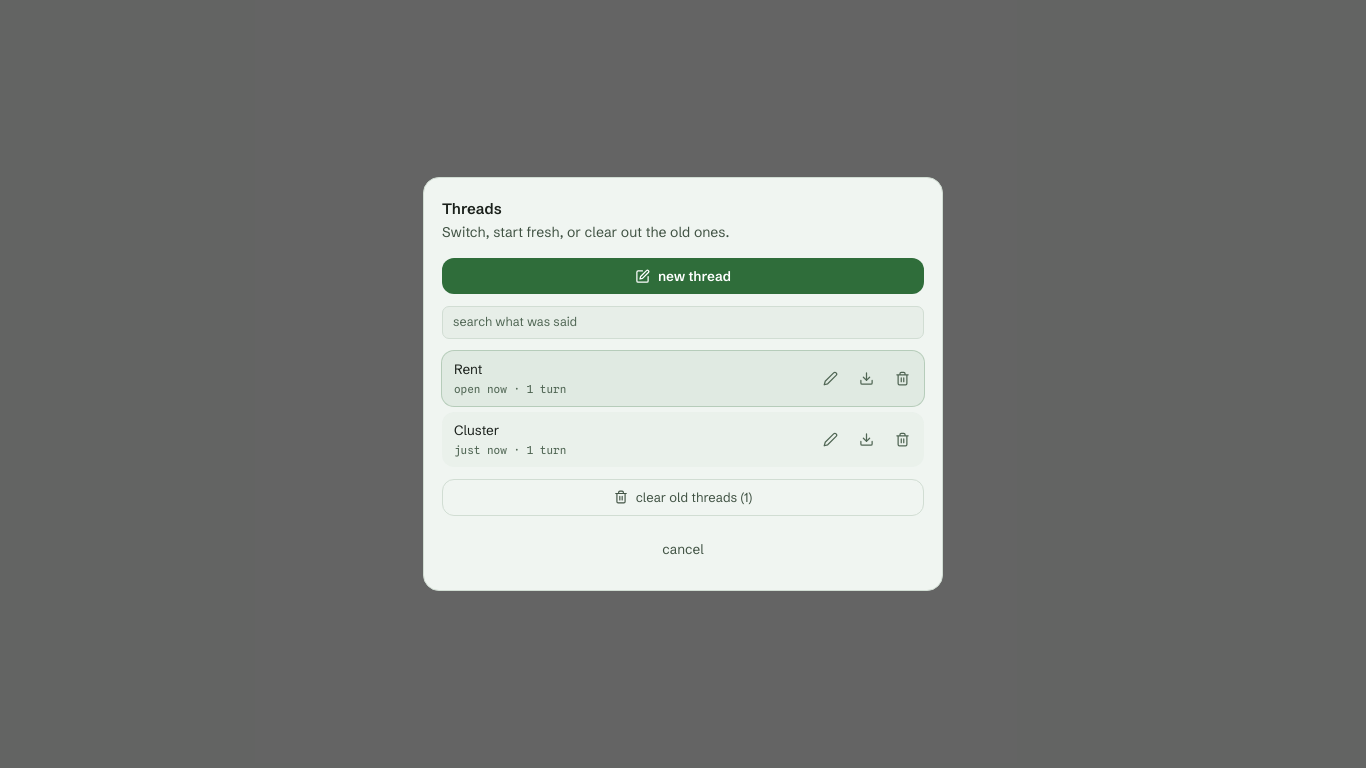
Test case: Threads (C-30) › searches what was said, once typing pauses, and shows where
In the search field named "search the threads": (683, 323) [442,306,924,339], type "kargo"
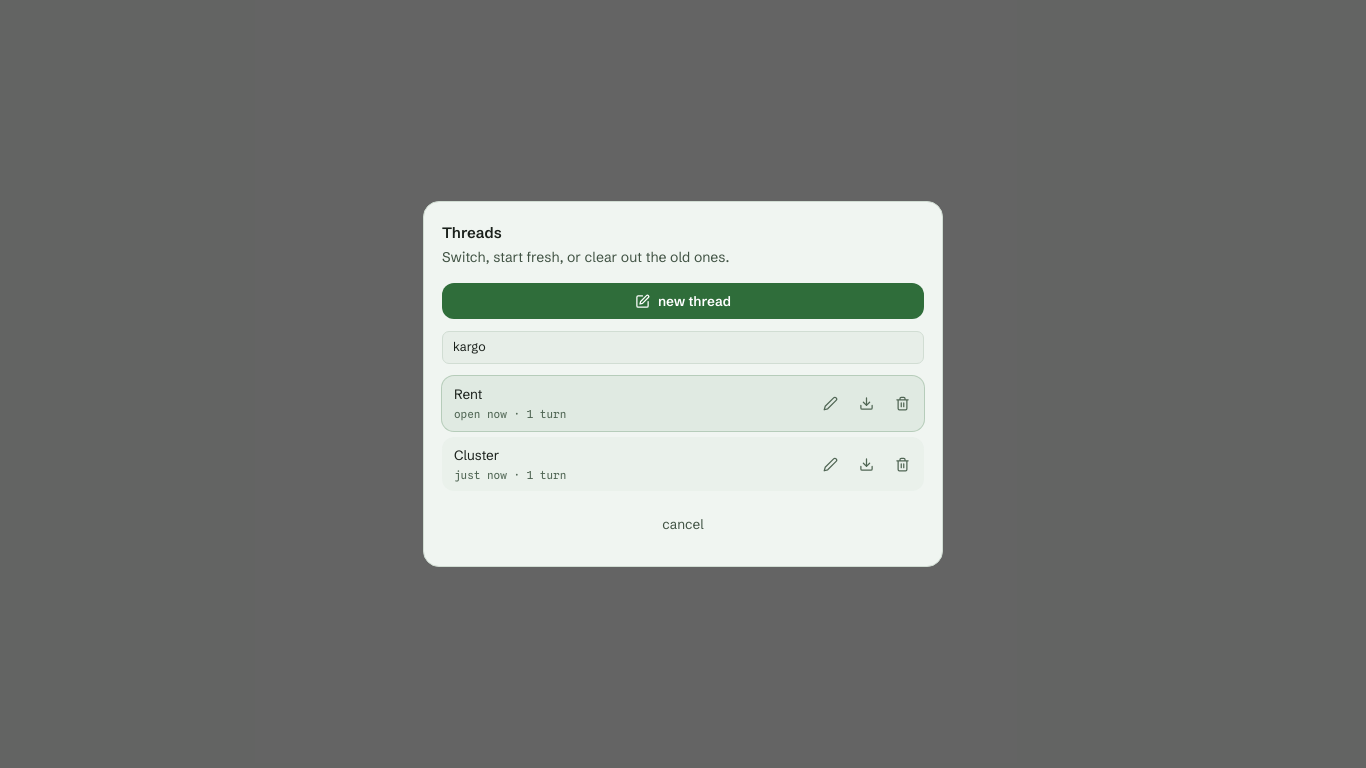
Replace the text in the search field named "search the threads" with "kargo promotion": (683, 348) [442,331,924,364]
Wait 300 ms
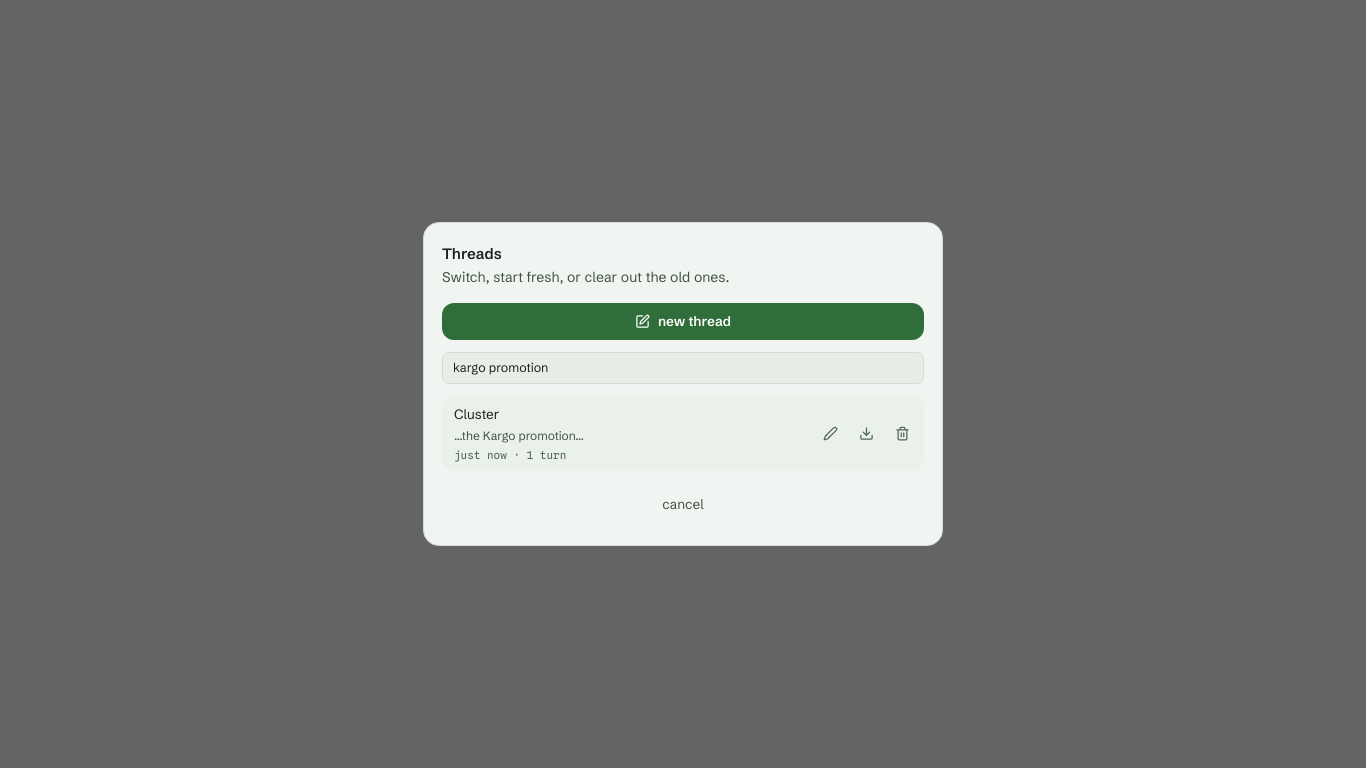
Expected: the button "clear old threads" is not shown
Expected: the text "…the Kargo promotion…" is shown, [454,428,584,442]
